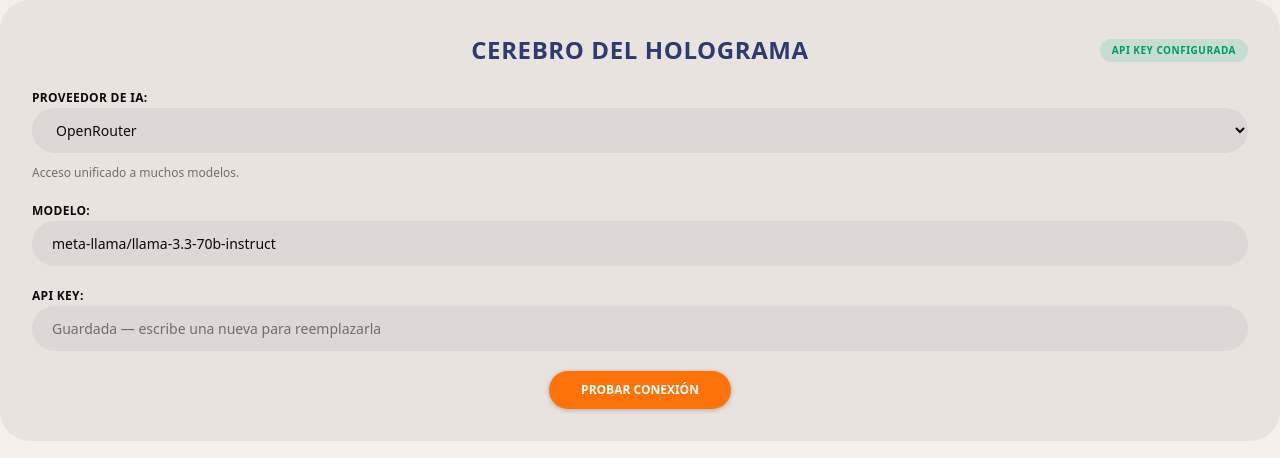
Test: ProviderConfigCard › switching to Ollama loads its model and hides the API-key field
This screenshot has width=1280, height=458.
Select "Ollama local" in the dropdown named "Proveedor de IA" at (640, 130), box x1=32 y1=108 x2=1248 y2=153
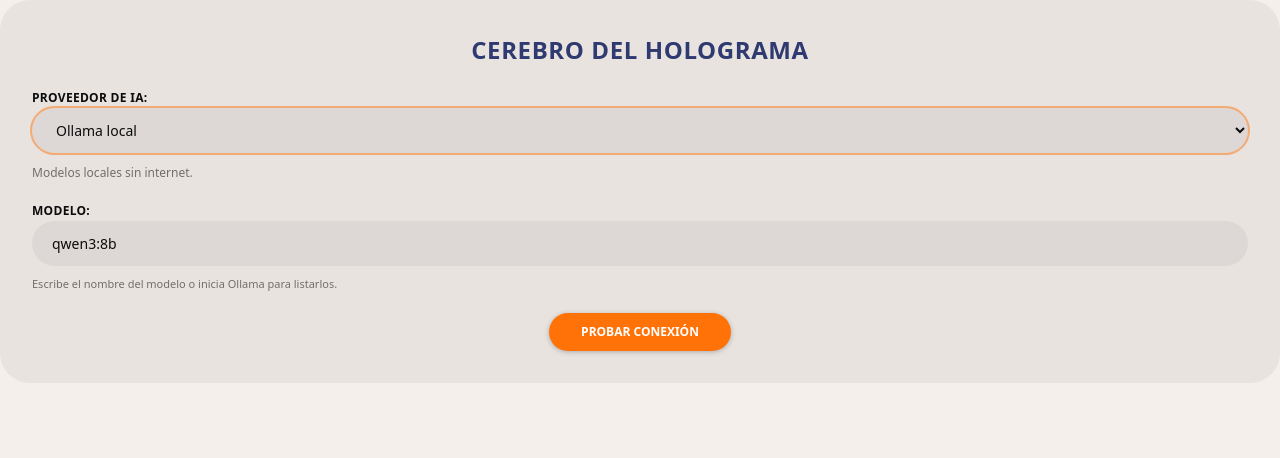
Result: the field with placeholder "gemma3:1b" holds "qwen3:8b" at x1=32 y1=221 x2=1248 y2=266
Result: the text "API key" is gone
